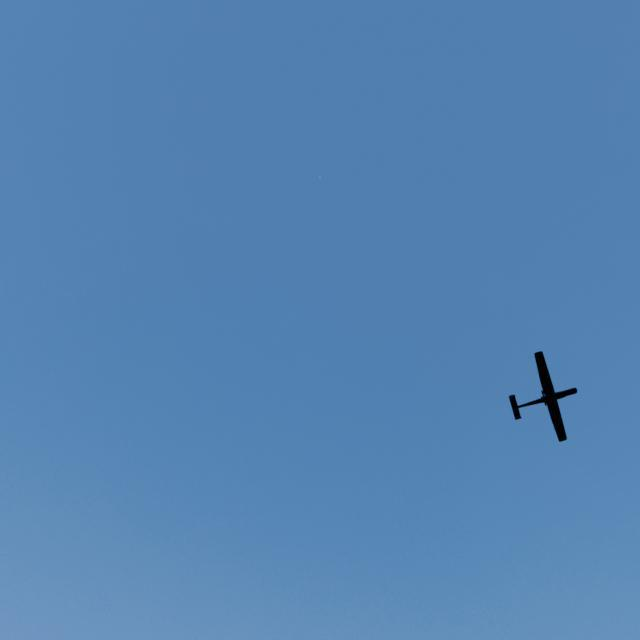Airaplan: (509, 351, 578, 442)
